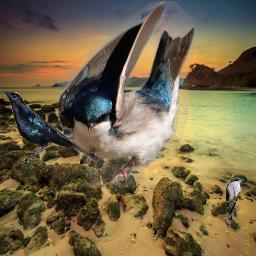Crow: (2, 91, 100, 167)
Cuckoo: (225, 177, 244, 228)
Swallow: (57, 1, 197, 188)
